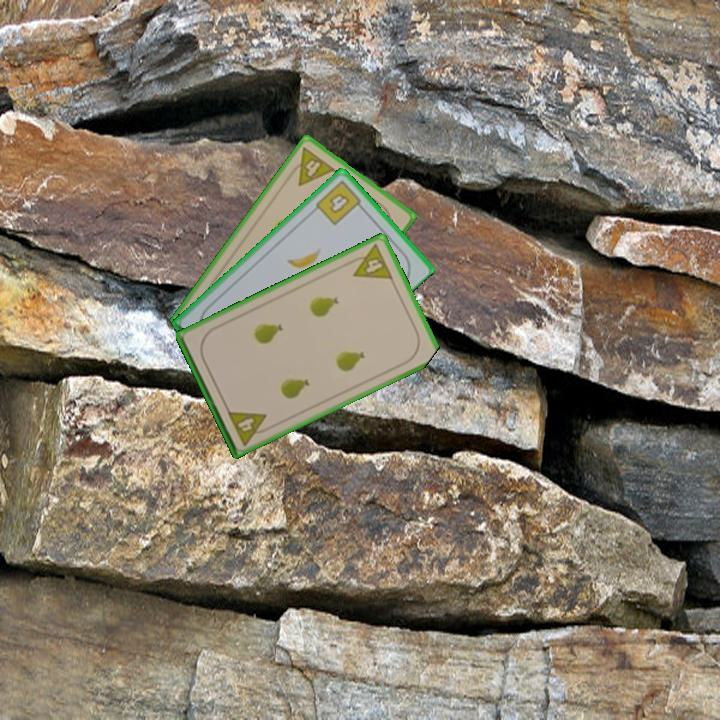4b: (312, 177, 367, 228)
4p: (284, 144, 338, 189), (344, 241, 396, 282), (224, 407, 274, 448)
